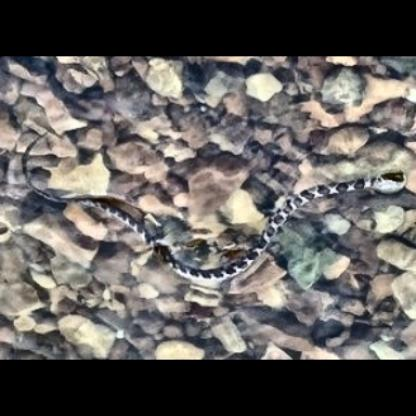Snake: (3, 67, 416, 353)
